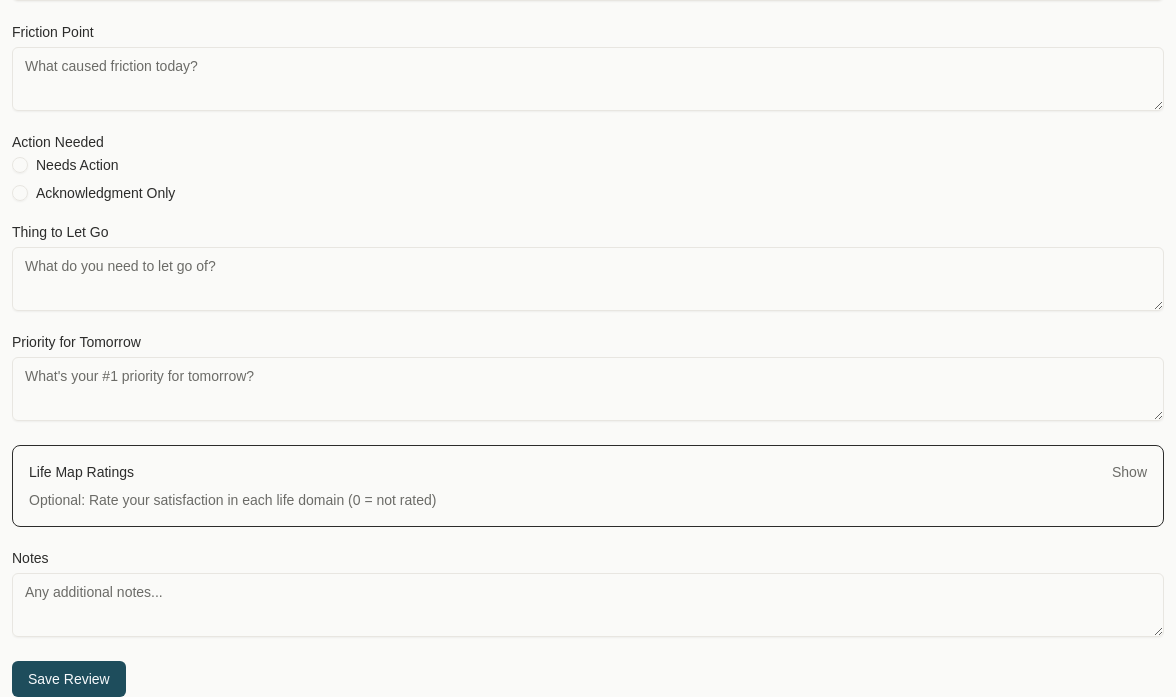
Option B: Domain Ratings in Daily Review Form › Domain Ratings Section › should render all 6 domain rating inputs
(page scrolled)
Click the button "Life Map Ratings Show".
click(82, 472)  # box [29,462,1147,482]
(page scrolled)
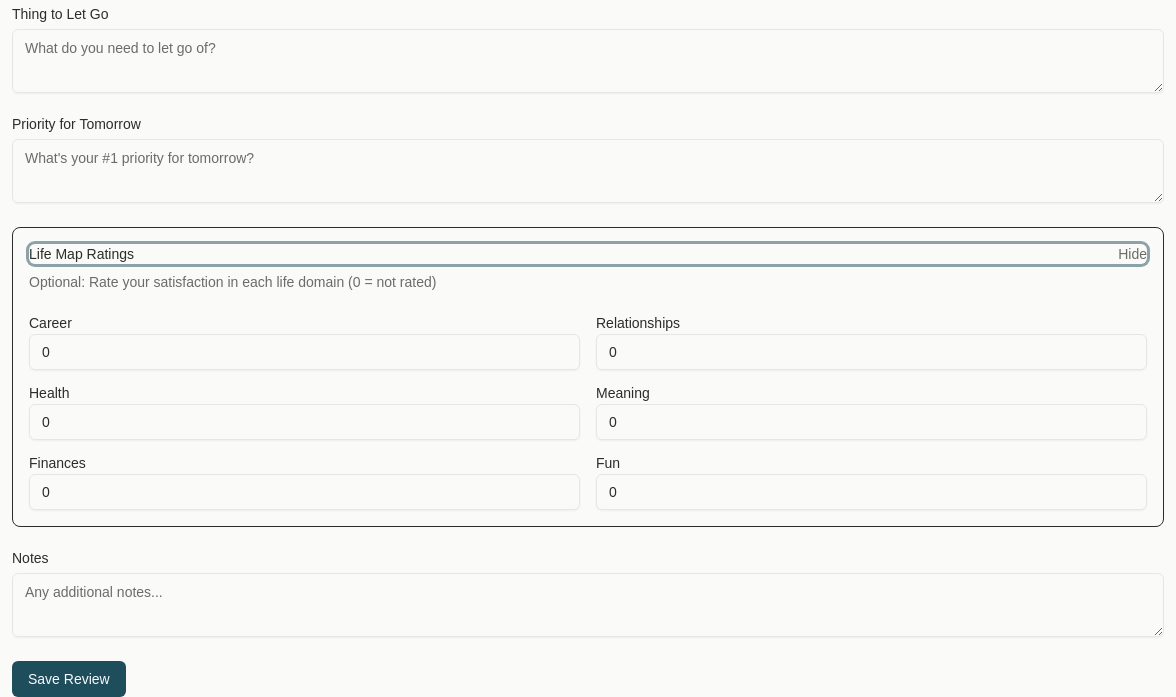
Check: the number field labelled "Career" is shown, box [29,334,580,370]
Check: the number field labelled "Relationships" is shown, box [596,334,1147,370]
Check: the number field labelled "Health" is shown, box [29,404,580,440]
